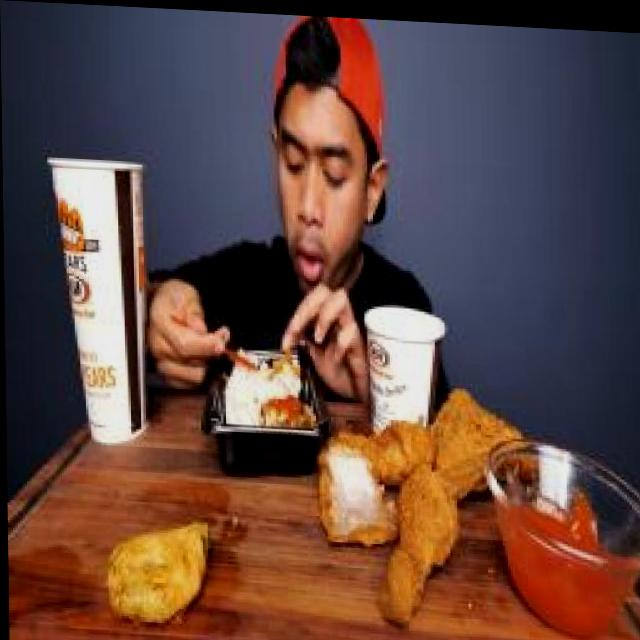AW cola: (37, 131, 155, 464)
black pepper rice bowl: (220, 307, 320, 466)
crispy corn: (363, 292, 463, 444)
fried chicken: (314, 368, 525, 614)
perkedel: (91, 493, 217, 640)
